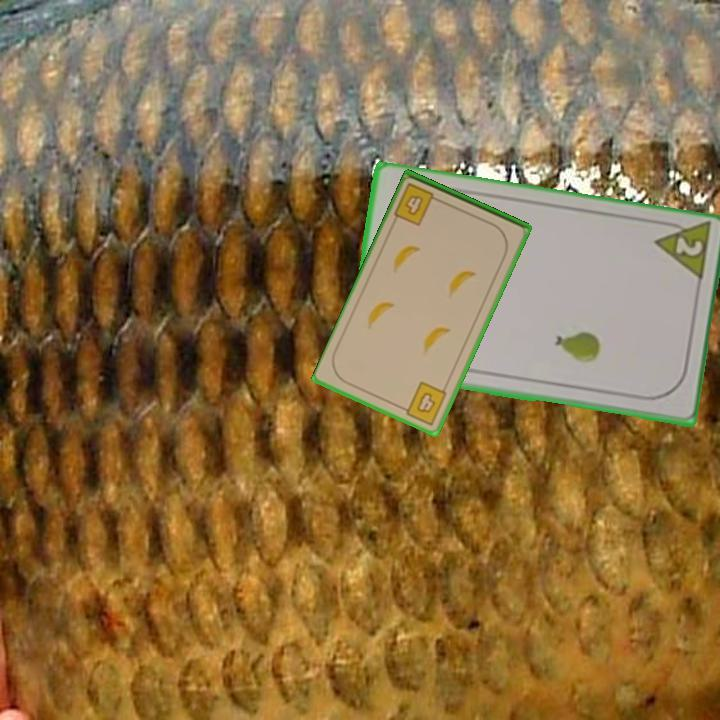2p: (649, 220, 713, 287)
4b: (391, 179, 445, 229), (397, 378, 450, 428)
